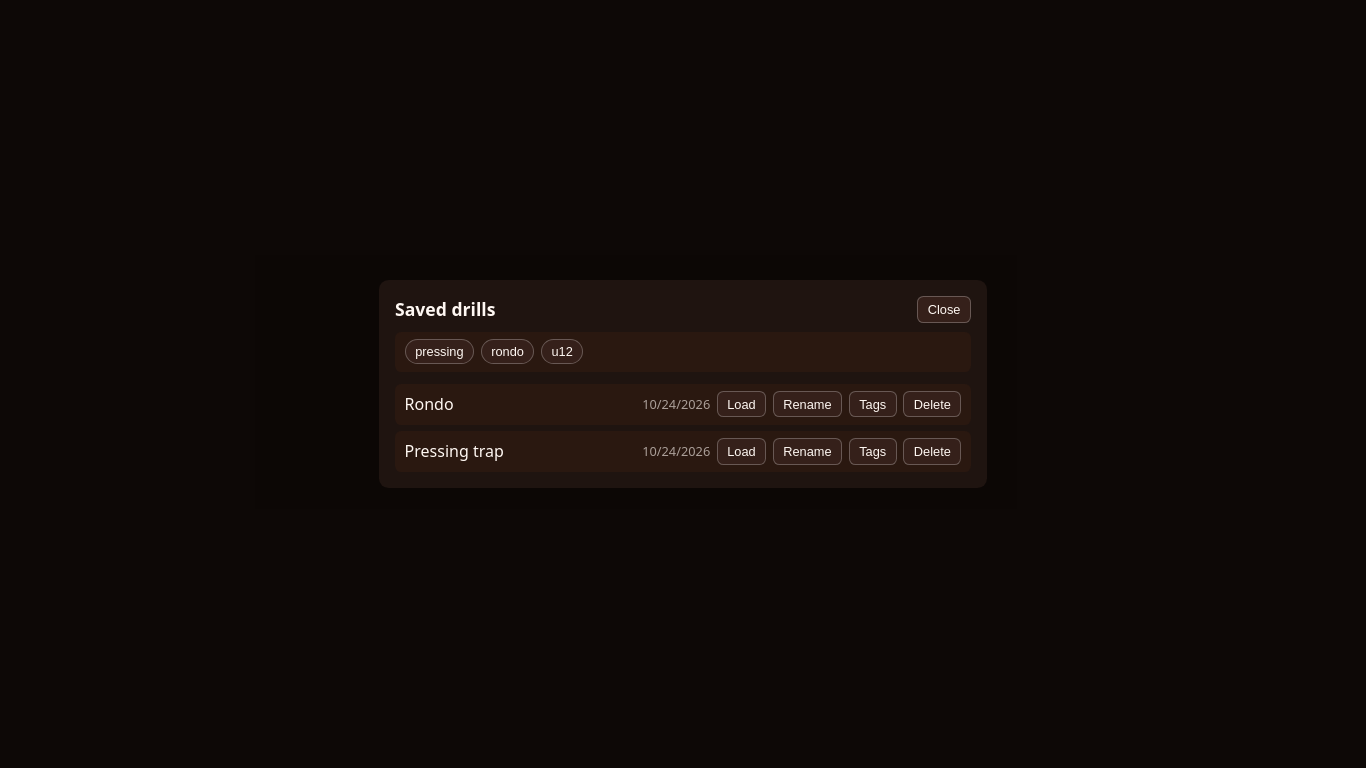
Test: tags › narrows the list to drills carrying every chosen tag
Expected: the number of list items is 2, [395, 384, 971, 425]; [395, 431, 971, 472]
Click the button "rondo" at (507, 352), box [480, 339, 534, 364]
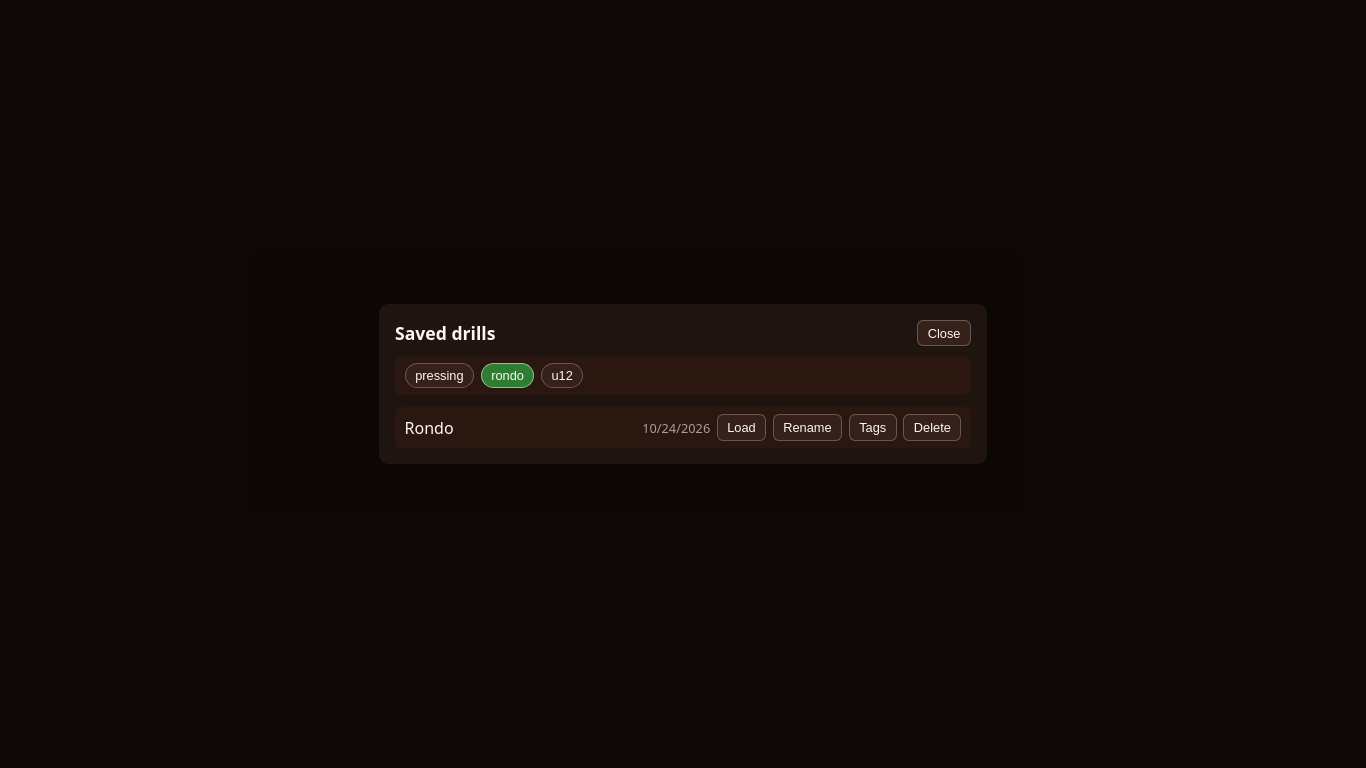
Expected: the list item "Rondo 10/24/2026 Load Rename Tags Delete" is shown, [395, 407, 971, 448]
Result: the number of list items is 1 at [395, 407, 971, 448]
